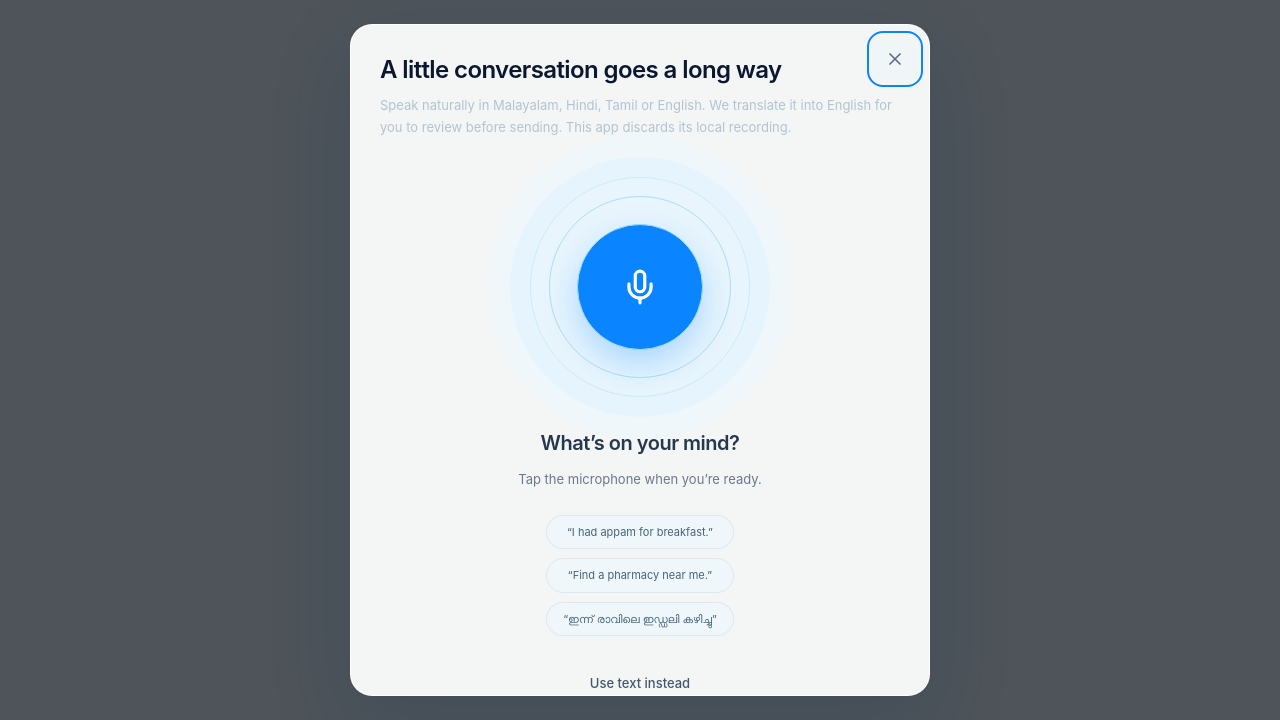
Scenario: permission and honest fallback interactions › an unsupported browser offers text instead
Click the button named "Start recording": x=640, y=287 left=577, top=224, right=703, bottom=350
(page scrolled)
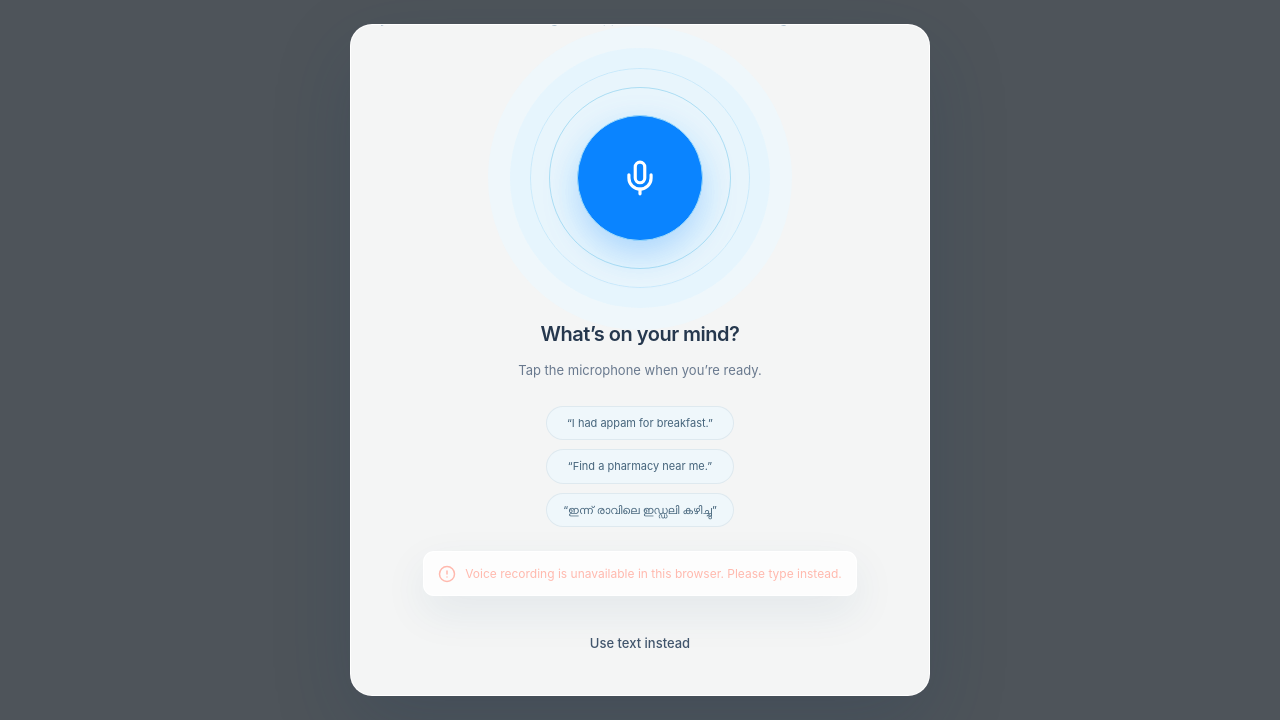
Expected: the button "Use text instead" is shown, left=573, top=620, right=707, bottom=666
Result: the message shows "Please type instead" at left=465, top=566, right=842, bottom=581
